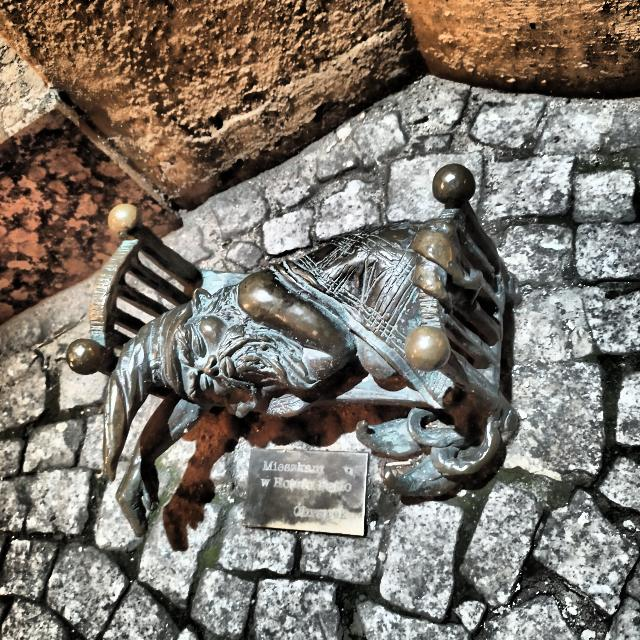Chrapek: (68, 164, 518, 535)
